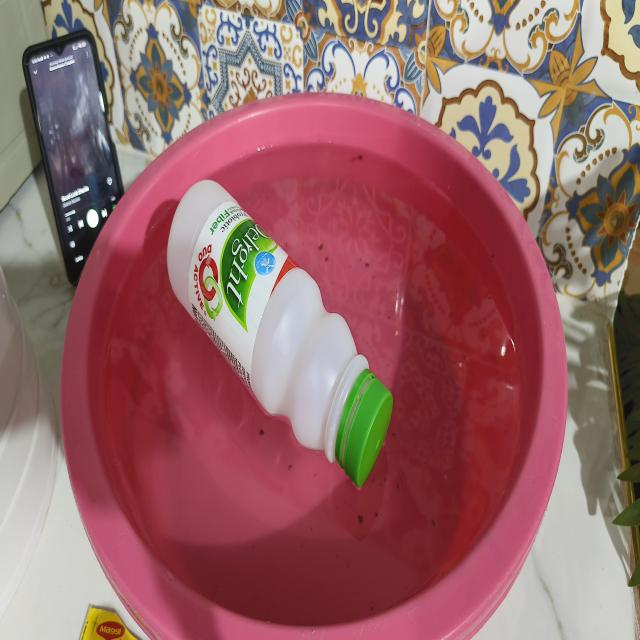Plastic Bottle: (167, 180, 393, 485)
